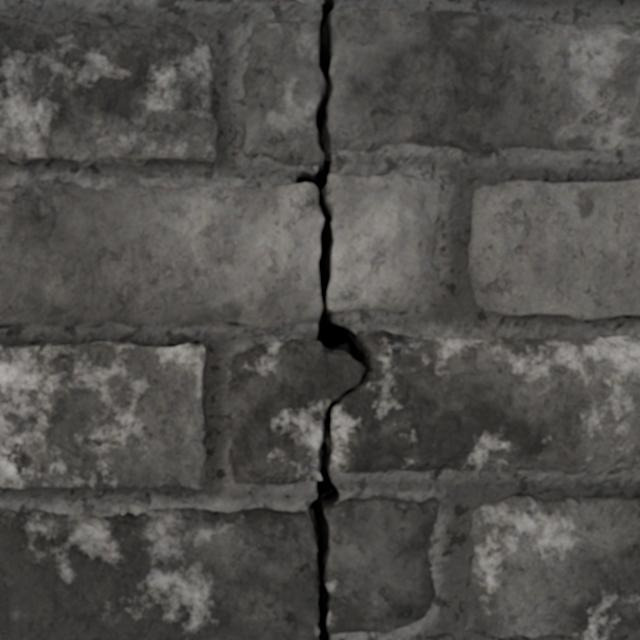broken_brick: (231, 331, 639, 484), (0, 180, 323, 327), (329, 7, 639, 157), (0, 508, 318, 639), (324, 172, 439, 313), (325, 495, 439, 633), (242, 21, 323, 165), (296, 0, 323, 4)
crack: (0, 17, 220, 167), (0, 341, 206, 491), (296, 0, 371, 380), (465, 495, 639, 639), (468, 179, 639, 320), (306, 386, 355, 639), (92, 321, 239, 323), (22, 321, 60, 323), (532, 465, 544, 466)
